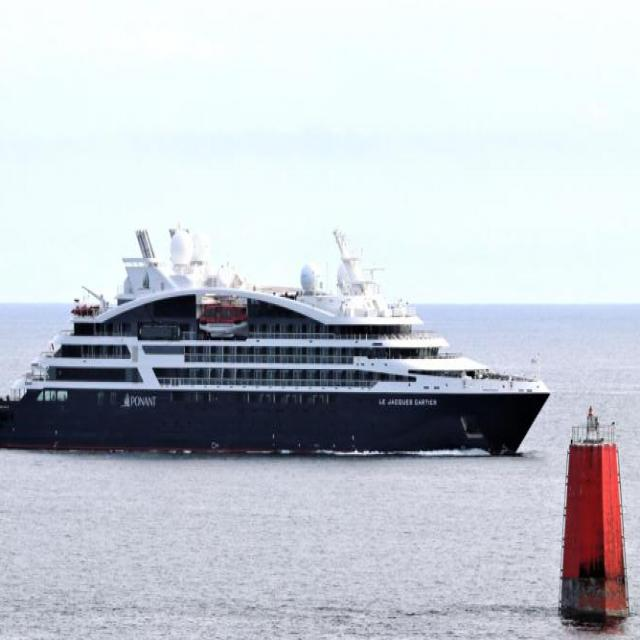cruises: (1, 220, 558, 471)
